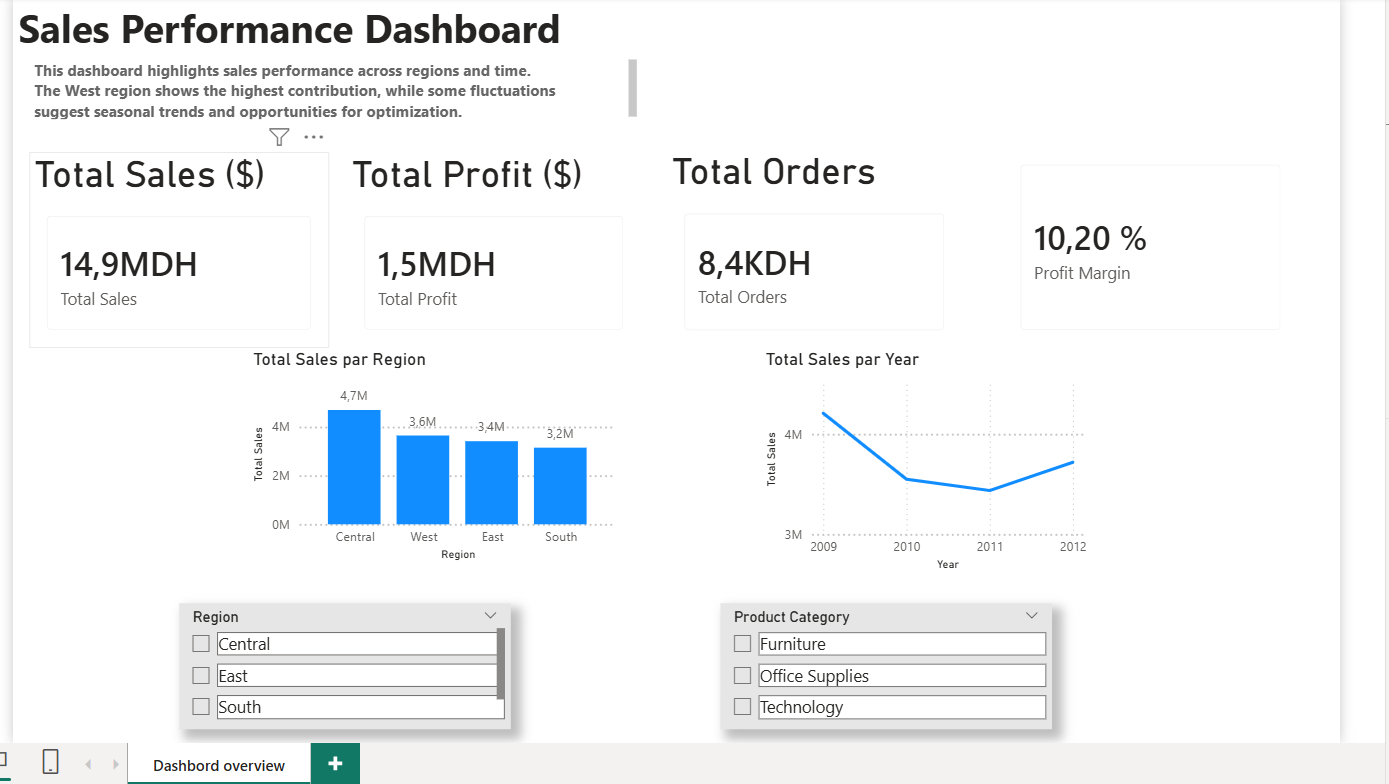

What the dashboard file says about the page in this screenshot:
{"tool":"powerbi","page":{"name":"Dashbord overview","canvas":[1280,720],"ordinal":0},"visuals":[{"type":"cardVisual","title":"Total Sales ($)","fields":{"Data":["orders.Total Sales"]},"box":[15.7,149.6,289.5,189.4],"z":0},{"type":"cardVisual","title":"Total Profit ($)","fields":{"Data":["orders.Total Profit $"]},"box":[322.1,149.6,284.7,189.4],"z":1000},{"type":"cardVisual","title":"Total Orders","fields":{"Data":["orders.Total Orders"]},"box":[631,147.2,285.9,191.8],"z":2000},{"type":"clusteredColumnChart","fields":{"Category":["orders.Region"],"Y":["orders.Total Sales"]},"box":[226.8,339,360.7,209.9],"z":3000},{"type":"lineChart","fields":{"Category":["orders.Order Date.Variation.Date Hierarchy.Year","orders.Order Date.Variation.Date Hierarchy.Quarter","orders.Order Date.Variation.Date Hierarchy.Month","orders.Order Date.Variation.Date Hierarchy.Day"],"Y":["orders.Total Sales"]},"box":[721.5,339,319.7,219.6],"z":4000},{"type":"slicer","fields":{"Values":["orders.Region"]},"box":[160.5,585.1,319.7,121.9],"z":5000},{"type":"slicer","fields":{"Values":["orders.Product Category"]},"box":[682.8,585.1,319.7,121.9],"z":6000},{"type":"cardVisual","fields":{"Data":["Region (Users).Profit Margin"]},"box":[955.5,144.8,285.9,194.2],"z":7000},{"type":"textbox","box":[0,0,617.6,63.5],"z":8000},{"type":"textbox","box":[15.7,55.5,591.2,67.6],"z":9000}]}

Visuals, with their boxes on the page's 1280x720 design canvas (x1, y1, x2, y2). These are canvas units, not pixel positions in the 1389x784 screenshot, which may show the page scaled, cropped or inside an application window:
"Total Sales ($)" cardVisual: <region>16, 150, 305, 339</region>
"Total Profit ($)" cardVisual: <region>322, 150, 607, 339</region>
"Total Orders" cardVisual: <region>631, 147, 917, 339</region>
clusteredColumnChart - orders.Region x orders.Total Sales: <region>227, 339, 588, 549</region>
lineChart - orders.Order Date.Variation.Date Hierarchy.Year x orders.Order Date.Variation.Date Hierarchy.Quarter: <region>722, 339, 1041, 559</region>
slicer - orders.Region: <region>160, 585, 480, 707</region>
slicer - orders.Product Category: <region>683, 585, 1002, 707</region>
cardVisual - Region (Users).Profit Margin: <region>956, 145, 1241, 339</region>
textbox: <region>0, 0, 618, 64</region>
textbox: <region>16, 56, 607, 123</region>
